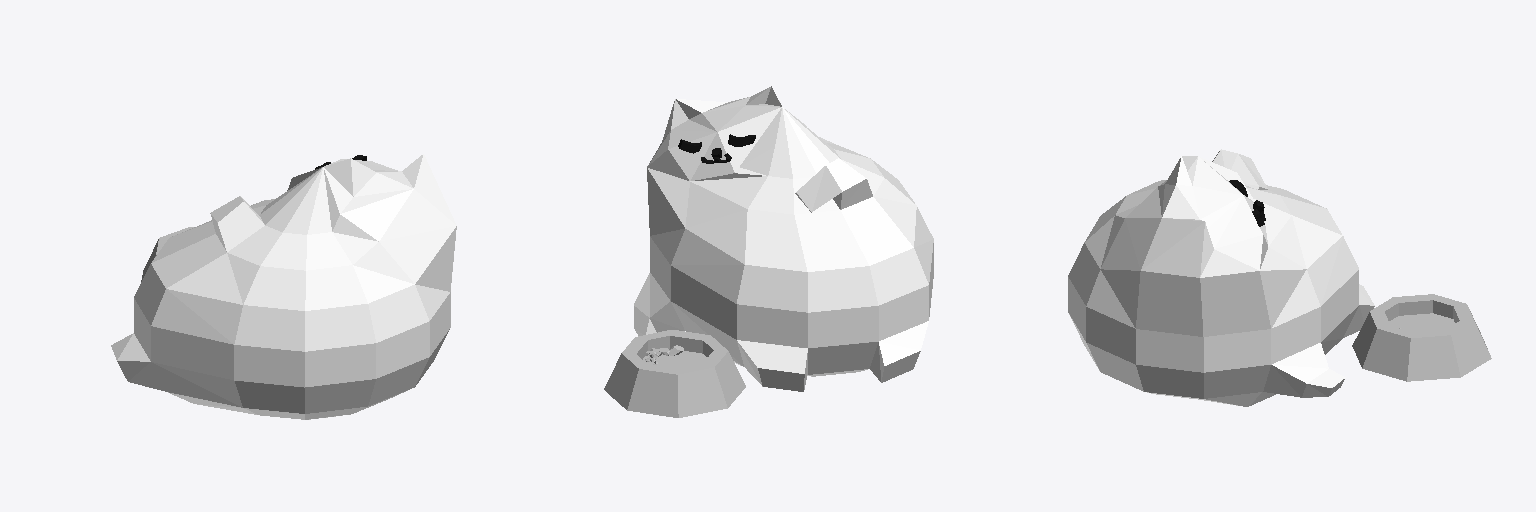
File: cat-tubs.obj
3 renders of one model, left to right at view 1: azimuth 30°, elevation 25°; view 2: azimuth 150°, elevation 25°; view 3: azimuth 270°, elevation 25°, orthographic.
Parts seen in each view (by area): view 1: group[number redacted]; view 2: group[number redacted], group[number redacted]; view 3: group[number redacted], group[number redacted].
Boxes of the visible parts, x1,y1,x2,y2 form: group[number redacted]: [111, 154, 456, 419]; group[number redacted]: [634, 86, 933, 391]; group[number redacted]: [604, 330, 745, 417]; group[number redacted]: [1068, 149, 1374, 406]; group[number redacted]: [1352, 294, 1491, 381].
Bounding box in the file's own units: 0.5789 × 0.4647 × 0.7282.